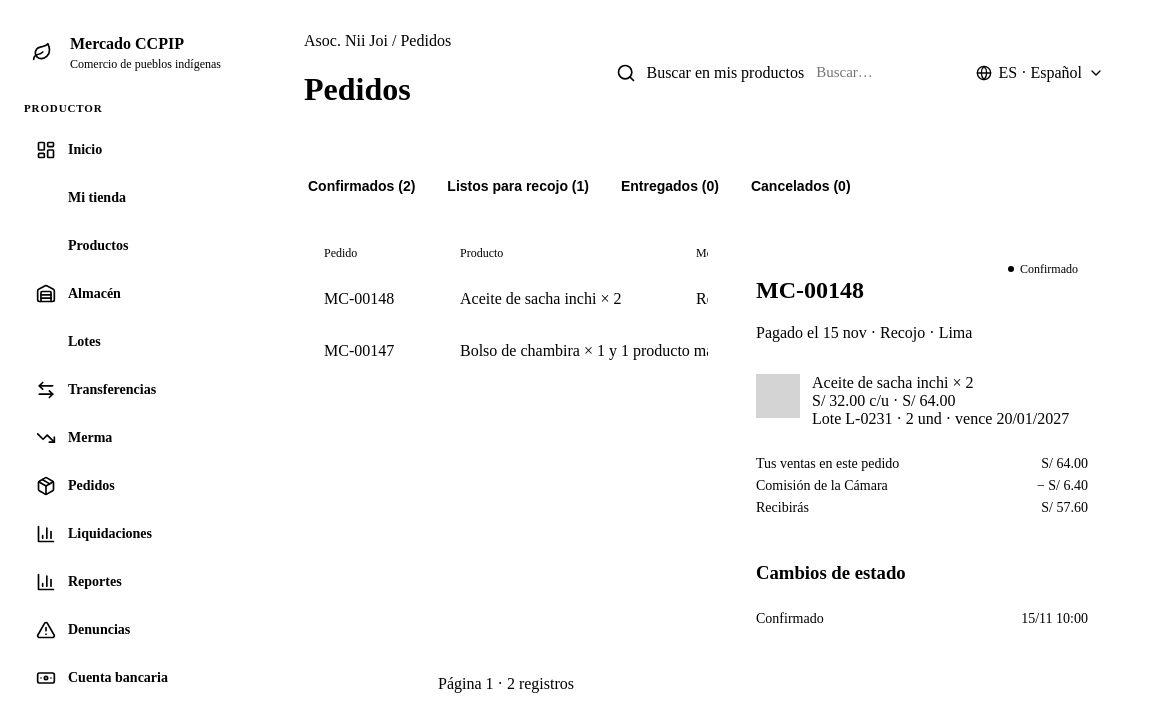
Test: CCPIP-66 Pedidos del productor (PW-07) › elegir otro pedido cambia el detalle; sin comision lo explica
This screenshot has width=1152, height=716.
Click the button with aria-label "Ver el pedido MC-00147".
click(359, 350)  # box [304,325,1148,377]
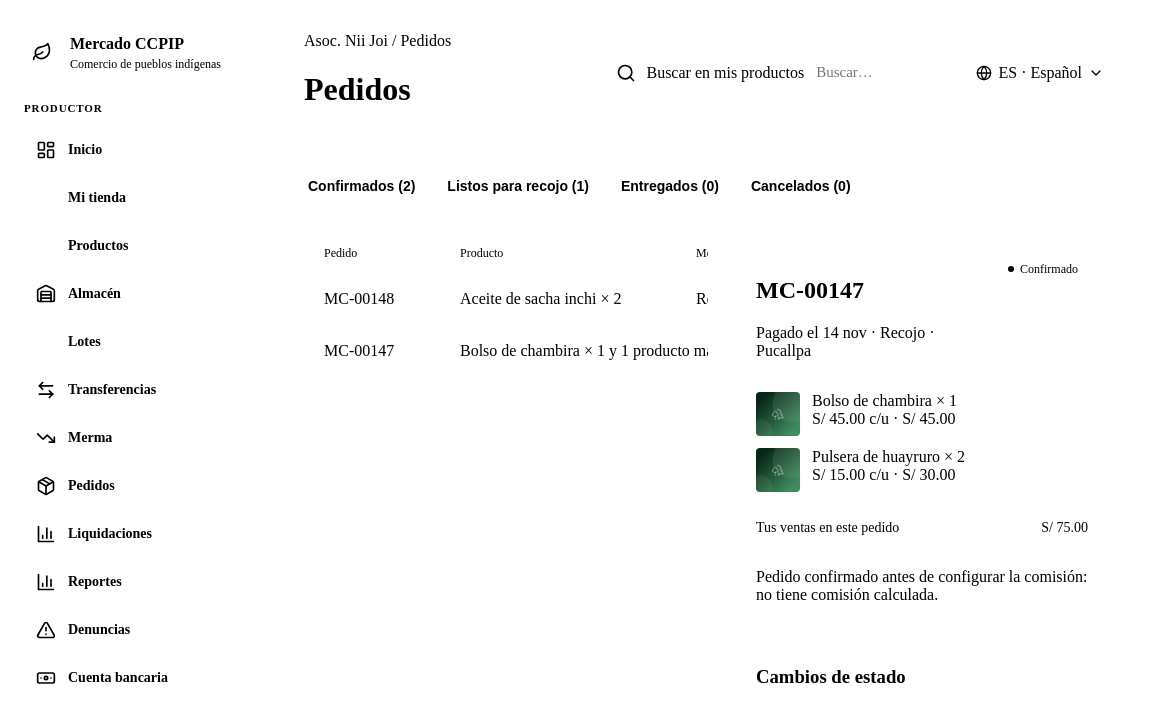
Expected: the text "Pulsera de huayruro × 2" is shown, [812,448,965,466]
Expected: the text "S/ 75.00" is shown, [1041,520,1088,536]
Expected: the text "no tiene comisión calculada" is shown, [756,568,1088,603]
